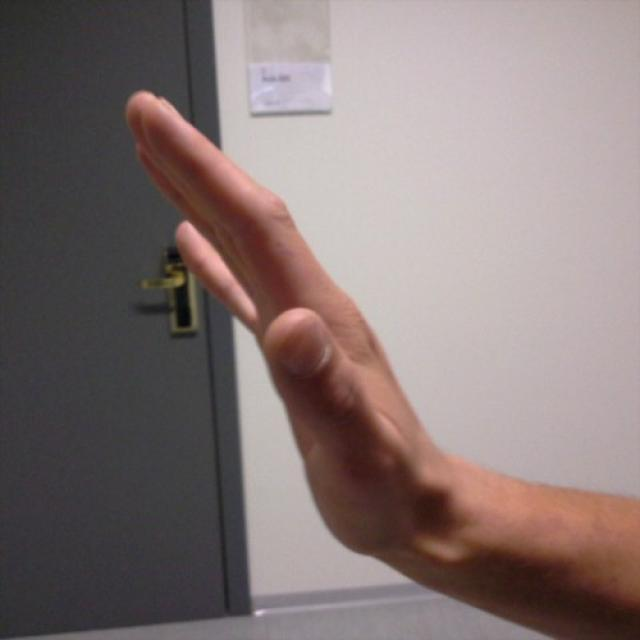paper: (118, 84, 432, 558)
